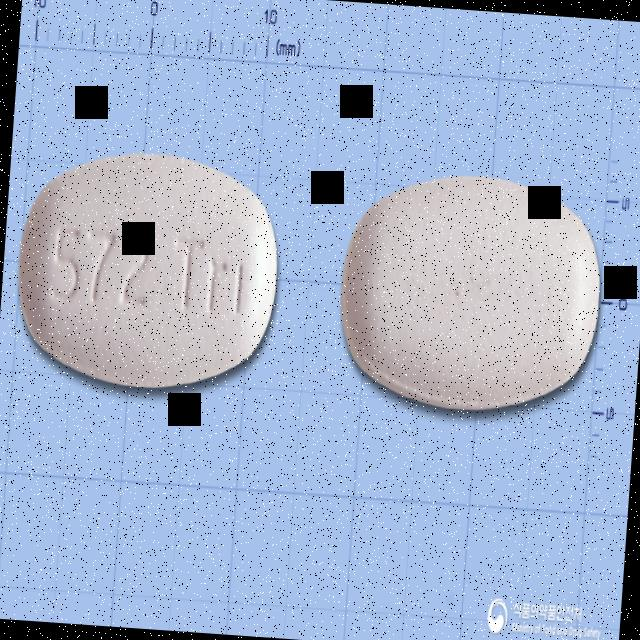Triumeq Tab: (11, 146, 286, 394)
